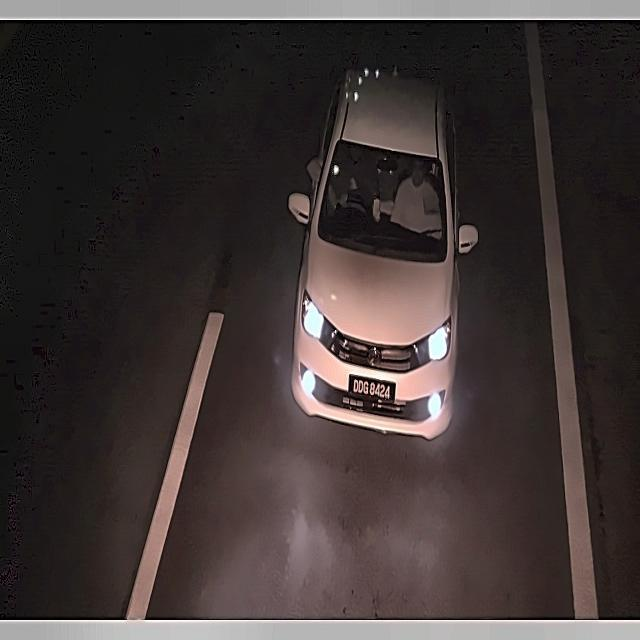car: (346, 366, 402, 407)
